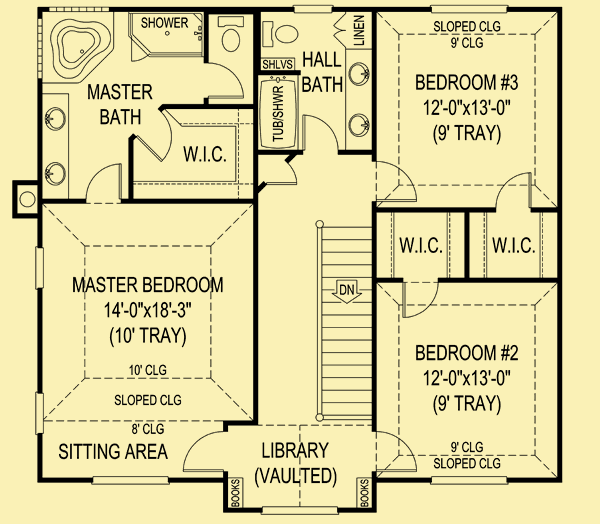master bathroom has a bathtub, shower space, dual sink and large sink: (37, 5, 257, 202)
there is a bathroom which has dual sinks, bathtub and a large sink: (254, 8, 376, 156)
